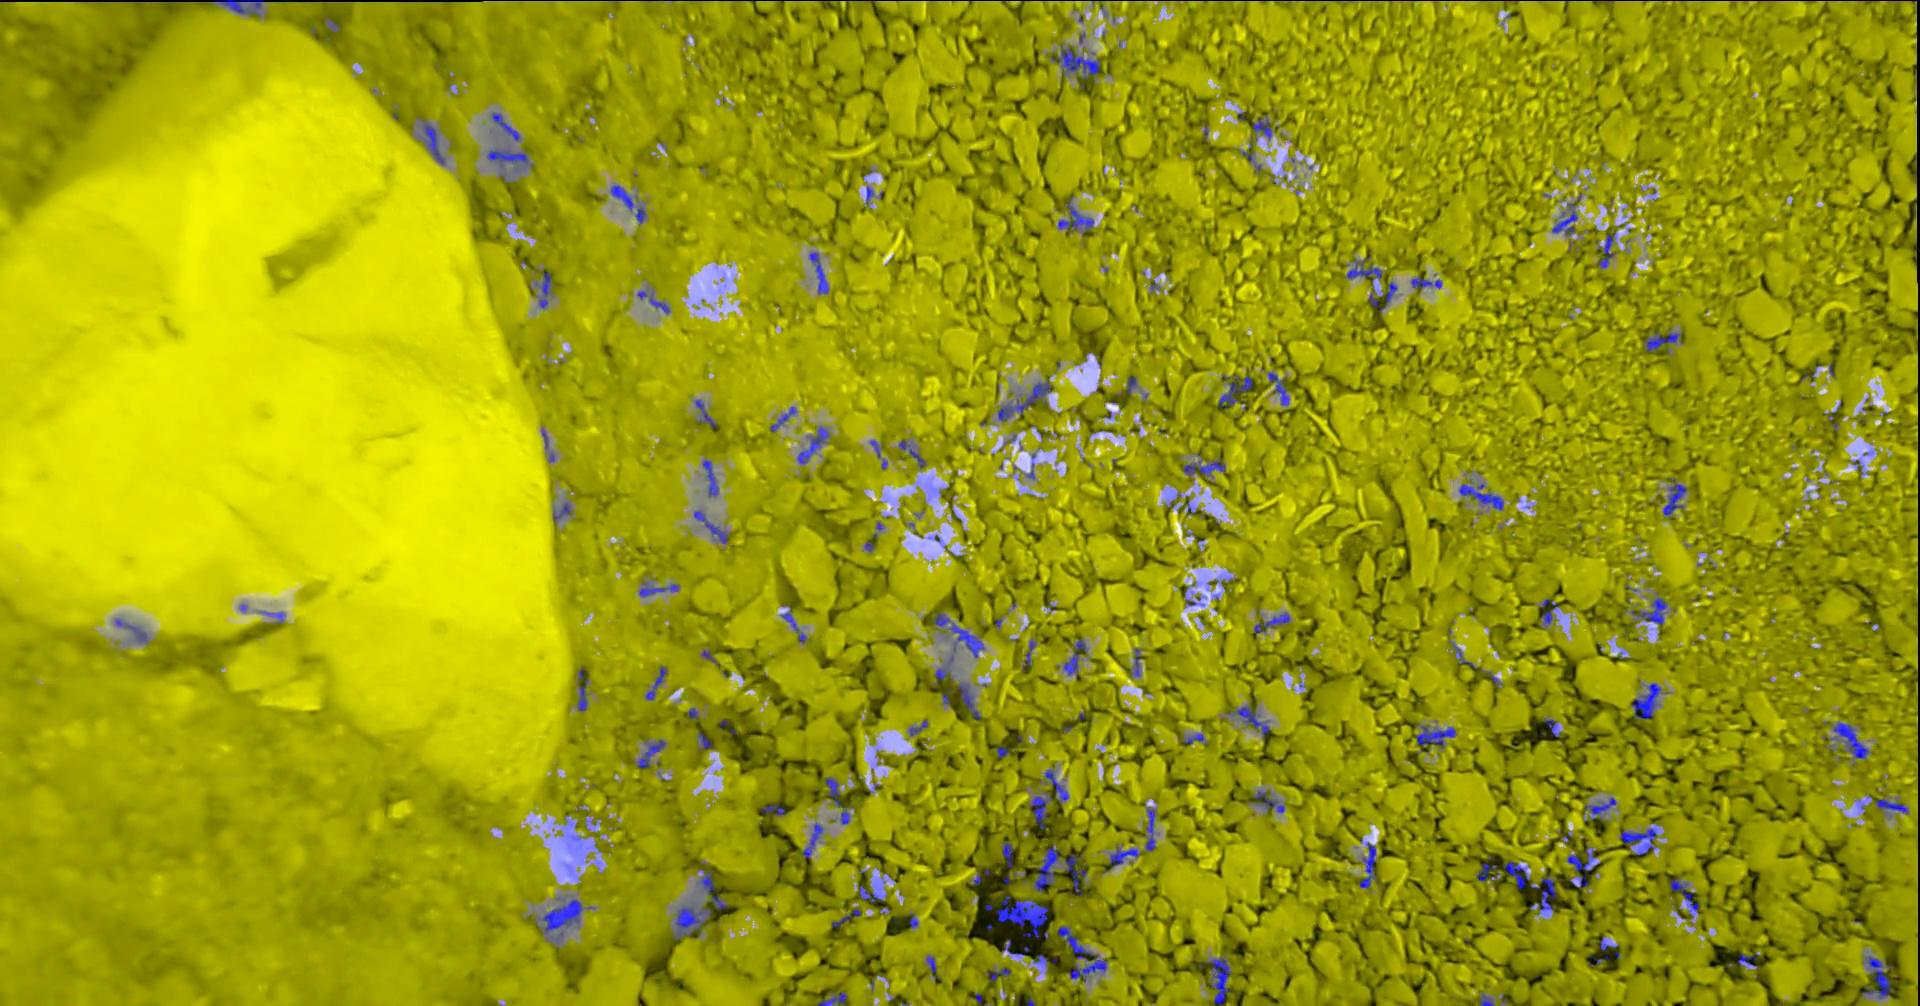ant: (1057, 925, 1107, 981), (997, 380, 1051, 420), (933, 612, 983, 657), (996, 895, 1048, 937), (1051, 44, 1098, 86), (538, 899, 582, 934), (1057, 194, 1093, 232), (1227, 706, 1270, 738), (1832, 721, 1868, 758), (1860, 956, 1891, 998), (673, 906, 711, 939), (1205, 956, 1230, 1005), (1458, 483, 1503, 509), (1032, 846, 1059, 890), (1217, 373, 1252, 406), (797, 426, 828, 464), (1669, 878, 1699, 916), (1567, 846, 1595, 887), (700, 869, 728, 909), (1502, 860, 1540, 889), (693, 511, 728, 542), (1057, 639, 1086, 676), (1630, 682, 1660, 719), (1346, 255, 1382, 283), (1630, 597, 1666, 625), (1529, 874, 1557, 909), (423, 119, 444, 164), (1063, 854, 1086, 895), (1620, 828, 1656, 855), (1415, 725, 1455, 747), (1357, 842, 1377, 888), (808, 251, 828, 293), (1368, 281, 1396, 311), (1663, 478, 1686, 514), (957, 683, 980, 720), (1029, 793, 1051, 829), (1550, 203, 1577, 234), (780, 610, 805, 641), (1044, 768, 1068, 801), (801, 822, 823, 859), (491, 112, 519, 140), (637, 739, 665, 767), (213, 0, 263, 15), (898, 439, 924, 467), (637, 290, 669, 312), (1583, 796, 1615, 819), (1644, 332, 1681, 351), (1267, 371, 1288, 405), (116, 619, 146, 641), (1253, 614, 1289, 633), (645, 666, 665, 699), (1182, 460, 1225, 475), (1253, 790, 1284, 812), (770, 406, 796, 431), (1597, 231, 1615, 267), (695, 399, 716, 428), (1109, 847, 1139, 868), (1476, 855, 1498, 882), (1001, 841, 1015, 883), (1451, 644, 1476, 668), (610, 184, 632, 210), (830, 908, 860, 927), (488, 149, 527, 163), (702, 460, 717, 495), (1144, 807, 1156, 851), (639, 583, 678, 596), (1539, 598, 1558, 624), (1876, 798, 1907, 813), (824, 777, 841, 807), (538, 271, 551, 307), (1410, 276, 1441, 290), (858, 884, 883, 902), (817, 991, 847, 1005), (1003, 939, 1029, 955), (1022, 639, 1035, 671), (1252, 118, 1271, 138), (552, 502, 570, 522), (759, 803, 787, 815), (1736, 951, 1759, 967), (924, 955, 938, 979), (985, 967, 1010, 981), (577, 678, 587, 710), (908, 719, 927, 735), (1130, 647, 1140, 676), (935, 667, 951, 685), (1543, 719, 1559, 737), (1589, 954, 1609, 967), (1182, 733, 1204, 744), (698, 732, 712, 748), (1032, 954, 1057, 963), (634, 206, 645, 224), (996, 746, 1010, 760), (1478, 993, 1495, 1005), (1126, 376, 1137, 394), (841, 807, 850, 824)
